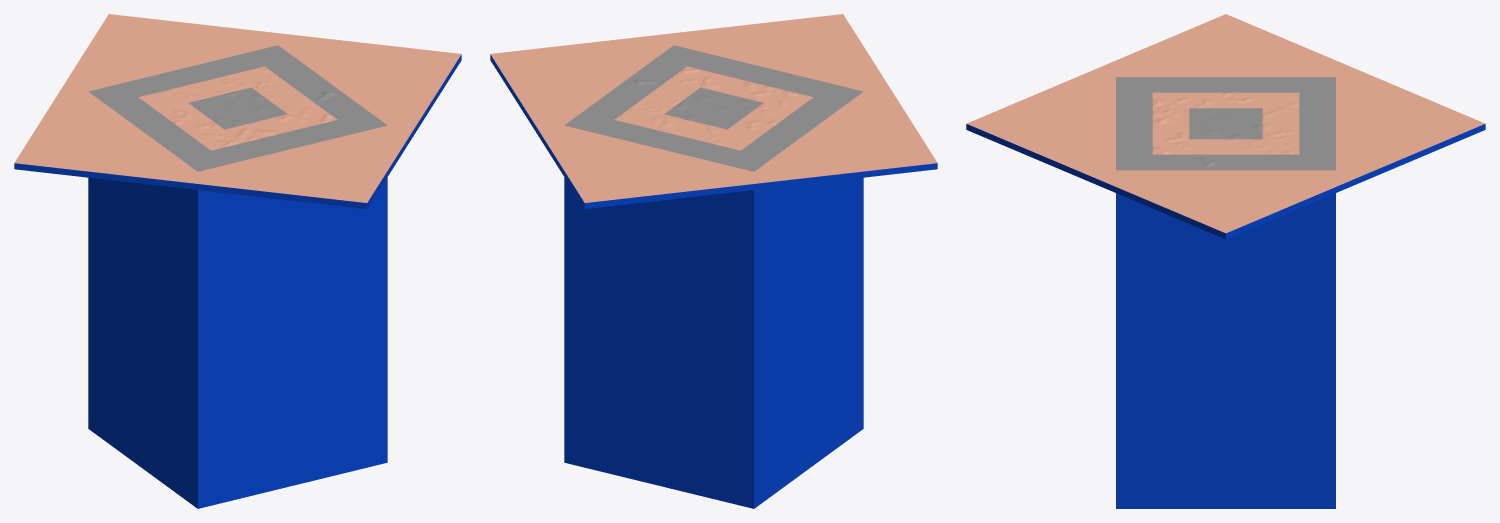
The model's file is New Floor.FBX.
3 views of the same model, side by side, from view 1: azimuth 30°, elevation 25°; view 2: azimuth 150°, elevation 25°; view 3: azimuth 270°, elevation 25° (orthographic).
Parts seen in each view (by area): view 1: Tube, Border, Middle, Inner, Center; view 2: Tube, Border, Middle, Inner, Center; view 3: Tube, Border, Middle, Inner, Center.
Part boxes in pixels (bbox=[...]): Tube: bbox=[14, 54, 461, 508]; Border: bbox=[14, 14, 461, 202]; Middle: bbox=[88, 45, 387, 171]; Inner: bbox=[138, 66, 337, 150]; Center: bbox=[188, 87, 287, 129]; Tube: bbox=[490, 54, 937, 508]; Border: bbox=[490, 14, 937, 202]; Middle: bbox=[564, 45, 863, 171]; Inner: bbox=[614, 66, 813, 150]; Center: bbox=[664, 87, 763, 129]; Tube: bbox=[966, 124, 1485, 508]; Border: bbox=[967, 14, 1484, 233]; Middle: bbox=[1116, 77, 1335, 170]; Inner: bbox=[1152, 92, 1299, 154]; Center: bbox=[1189, 108, 1262, 139].
Bounding box in the file's own units: 141 × 102 × 141.
